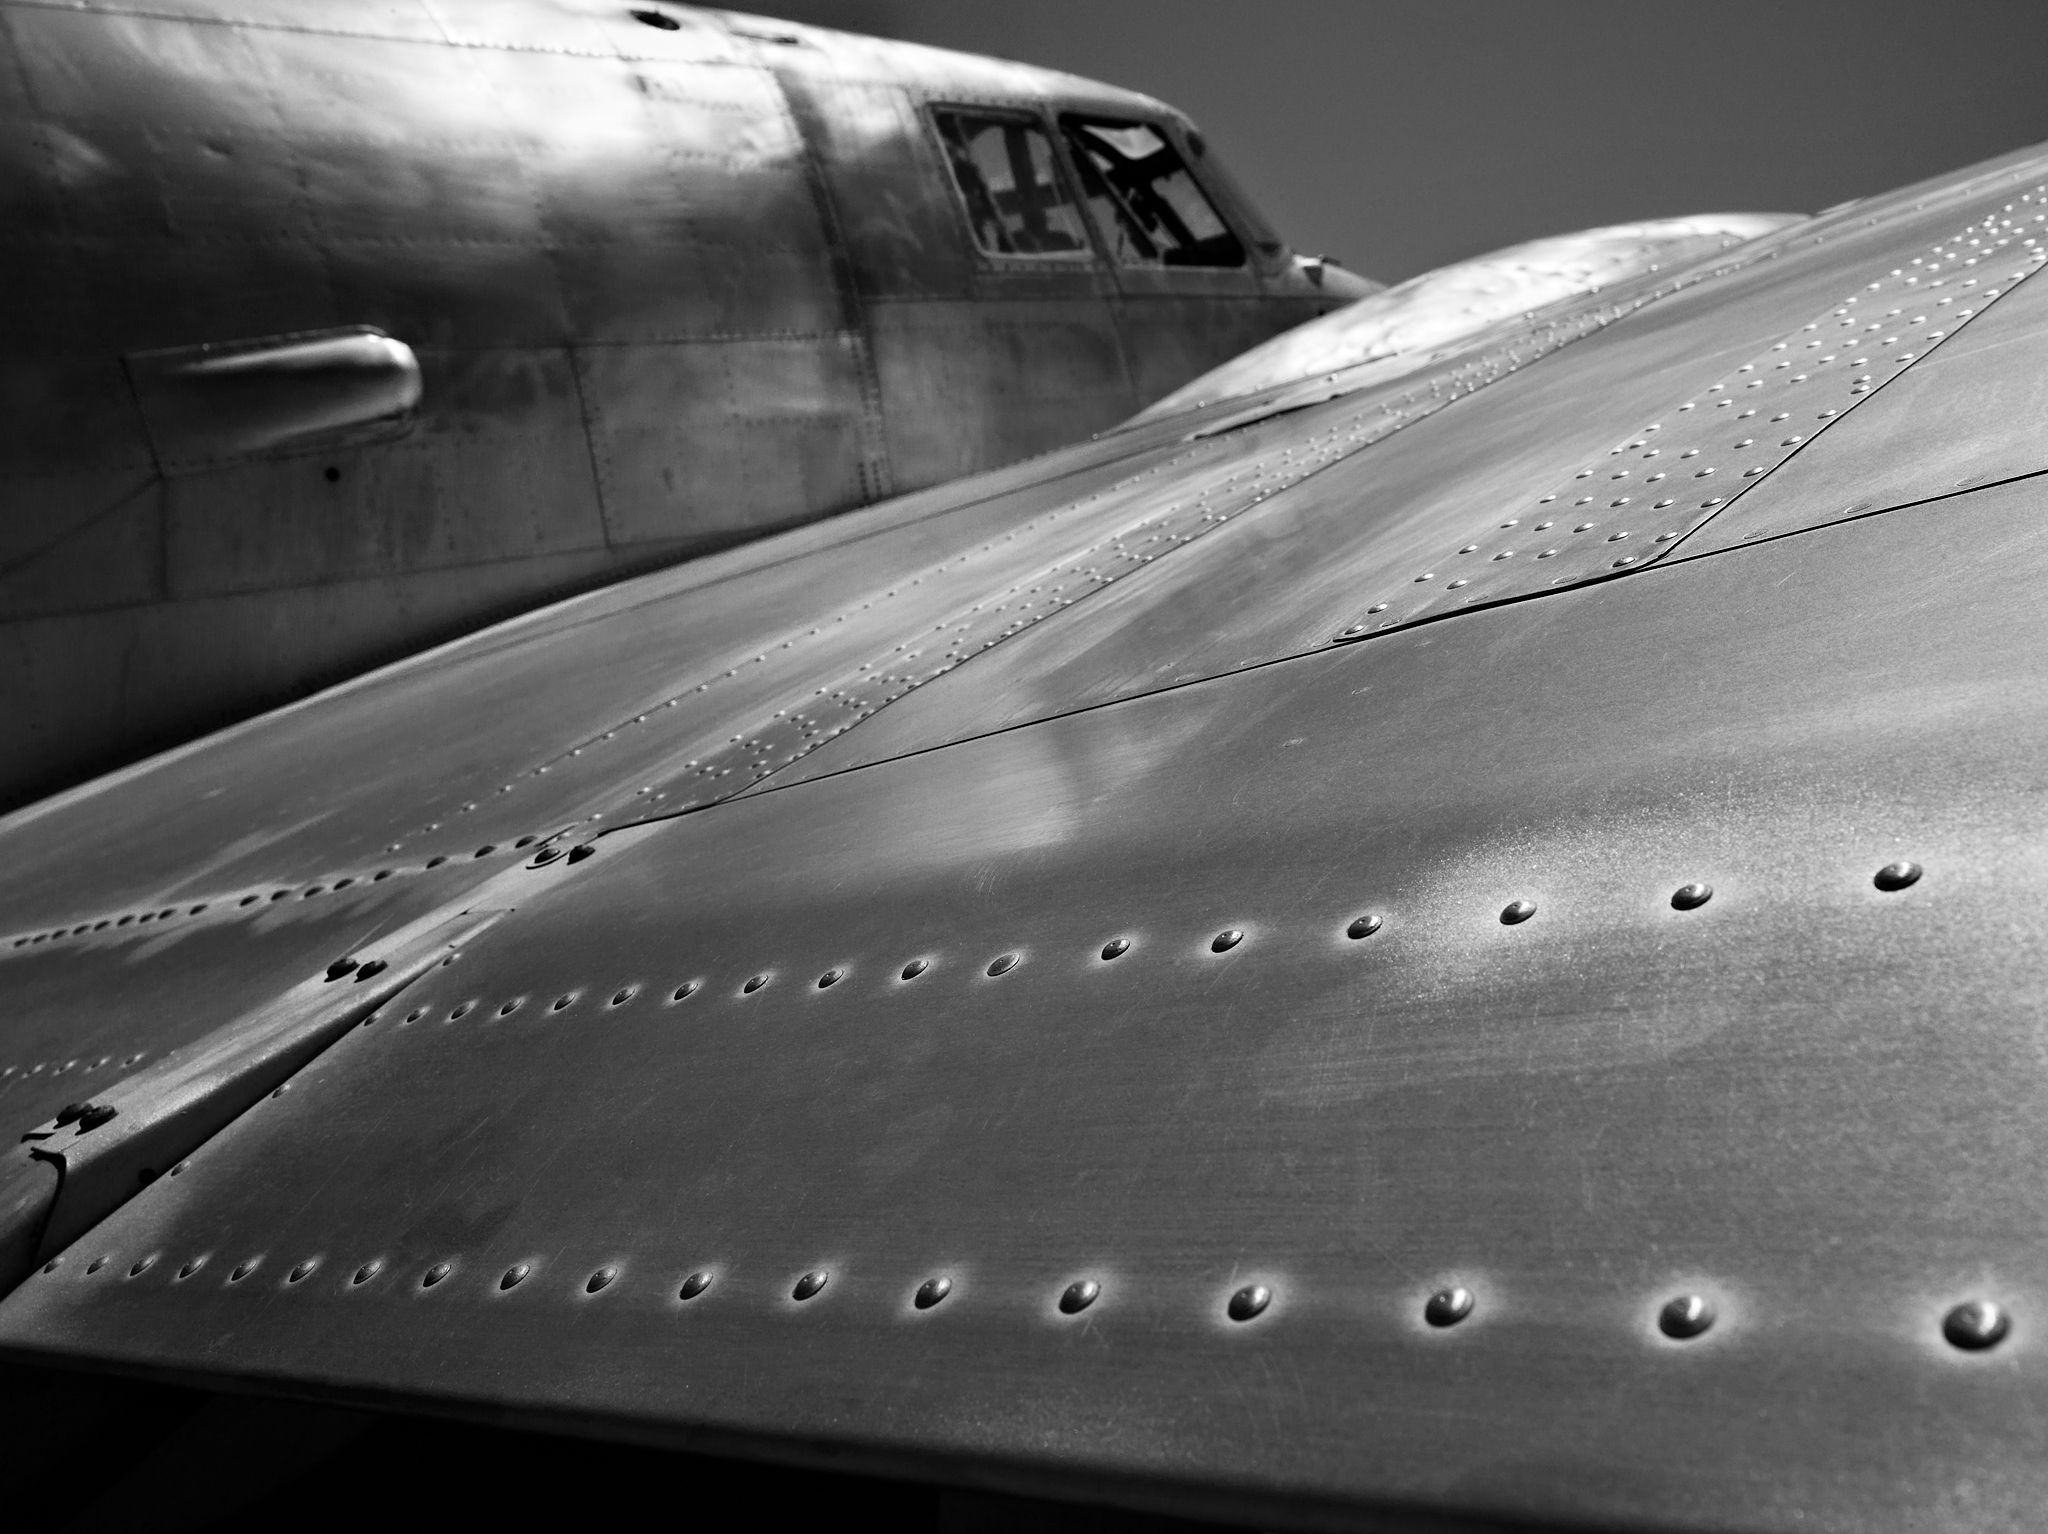rivet: (1934, 1287, 2013, 1366), (1652, 1283, 1724, 1349), (1412, 1273, 1478, 1337), (1218, 1271, 1273, 1329), (1864, 852, 1929, 901), (1049, 1268, 1105, 1321), (912, 1270, 956, 1313), (1668, 881, 1716, 914), (791, 1268, 831, 1307), (678, 1270, 715, 1304), (583, 1263, 620, 1296), (1345, 912, 1386, 941), (1495, 899, 1537, 925), (985, 951, 1022, 980), (500, 1262, 532, 1292), (421, 1262, 453, 1291), (1210, 930, 1246, 956), (1101, 938, 1133, 964), (288, 1258, 317, 1284), (353, 1260, 382, 1286), (899, 959, 931, 981), (177, 1255, 206, 1279), (129, 1254, 156, 1278), (232, 1258, 259, 1283), (819, 968, 846, 991), (743, 973, 770, 996), (611, 985, 638, 1007), (85, 1254, 111, 1276), (500, 994, 524, 1017), (450, 1001, 475, 1022), (672, 981, 699, 1001), (553, 991, 577, 1012), (404, 1004, 429, 1025), (535, 848, 561, 865), (44, 1255, 66, 1275), (171, 1160, 193, 1180), (1611, 553, 1635, 570), (1652, 530, 1681, 545), (1457, 540, 1479, 558), (1848, 383, 1872, 400), (1494, 548, 1515, 566), (1573, 520, 1595, 537), (474, 844, 496, 860), (1698, 496, 1723, 511), (1606, 530, 1631, 545), (1444, 578, 1468, 593), (1365, 601, 1389, 616), (1342, 624, 1366, 638), (272, 1083, 292, 1101), (1532, 517, 1553, 533), (425, 856, 446, 872), (305, 885, 325, 901), (1536, 548, 1558, 562), (516, 835, 538, 849), (1740, 466, 1764, 479), (363, 1010, 382, 1026), (1610, 496, 1631, 511), (334, 878, 354, 893), (1769, 413, 1792, 425), (1779, 435, 1801, 448), (1413, 572, 1436, 585), (374, 867, 392, 883), (1499, 517, 1518, 532), (442, 952, 461, 967), (1734, 438, 1755, 451), (1653, 498, 1674, 511), (271, 889, 292, 902), (2008, 271, 2025, 285), (1895, 351, 1913, 366), (58, 1059, 76, 1073), (89, 1059, 106, 1073), (118, 914, 135, 928), (242, 893, 259, 907), (190, 902, 208, 917), (1694, 467, 1716, 479), (1909, 314, 1929, 327), (1926, 330, 1945, 343), (1848, 356, 1868, 369), (1677, 403, 1697, 416), (122, 1055, 142, 1068), (1955, 309, 1975, 321), (1851, 375, 1872, 387), (1816, 409, 1837, 421), (1681, 450, 1702, 461), (1647, 472, 1668, 483), (1926, 261, 1942, 276), (1984, 288, 2001, 301), (1864, 322, 1882, 335), (1789, 374, 1806, 387), (1885, 309, 1905, 321), (1629, 440, 1648, 451), (1611, 471, 1631, 482), (1574, 471, 1594, 482), (76, 923, 90, 938), (2030, 251, 2046, 264), (1882, 335, 1898, 348), (1842, 338, 1858, 351), (27, 1063, 44, 1076), (462, 802, 479, 815), (34, 931, 47, 947), (140, 910, 156, 923), (1735, 411, 1756, 421), (1903, 277, 1921, 288), (1706, 383, 1724, 395), (1642, 450, 1660, 461), (1963, 258, 1977, 271), (1842, 317, 1856, 330), (1574, 496, 1594, 506), (3, 1065, 18, 1078), (53, 930, 68, 943), (802, 728, 819, 740), (2009, 227, 2025, 238), (2021, 238, 2037, 250), (1937, 296, 1953, 308), (1930, 280, 1946, 292), (1818, 354, 1834, 366), (1776, 361, 1792, 372), (1737, 366, 1753, 377), (744, 738, 761, 749), (387, 843, 403, 854), (587, 812, 603, 823), (15, 936, 31, 947), (95, 920, 111, 931), (160, 909, 176, 920), (1747, 380, 1764, 390), (1716, 400, 1734, 409), (756, 770, 773, 780), (885, 694, 899, 706), (852, 699, 867, 711), (809, 740, 823, 751), (1943, 251, 1958, 263), (1866, 284, 1880, 295), (1834, 308, 1848, 319), (1803, 324, 1818, 335), (1772, 343, 1787, 354), (425, 822, 440, 833), (683, 759, 698, 770), (635, 786, 649, 798), (2030, 214, 2046, 224), (1806, 340, 1822, 350), (1644, 425, 1660, 435), (799, 720, 819, 728), (790, 714, 806, 723), (1987, 227, 2000, 238), (1909, 258, 1922, 269), (633, 714, 646, 725), (859, 662, 872, 674), (1961, 280, 1979, 288), (1539, 496, 1557, 504), (752, 761, 770, 769), (1060, 599, 1075, 609), (907, 682, 922, 691), (1993, 238, 2008, 248), (1979, 250, 1993, 259), (1888, 269, 1903, 279), (1610, 448, 1624, 458), (830, 690, 844, 699), (699, 765, 714, 775), (807, 627, 822, 636), (533, 767, 548, 777), (498, 785, 512, 794), (728, 732, 743, 741), (715, 770, 732, 778), (956, 654, 968, 664), (981, 641, 994, 651), (946, 651, 959, 661), (951, 638, 964, 648), (791, 751, 804, 761), (2001, 205, 2014, 214), (1930, 247, 1943, 256), (1950, 235, 1963, 245), (2000, 221, 2013, 230), (1967, 238, 1980, 248), (1843, 296, 1856, 306), (843, 698, 856, 707), (653, 793, 665, 802), (725, 669, 738, 678), (814, 686, 827, 696), (773, 711, 786, 720), (1010, 622, 1025, 630), (859, 711, 873, 719), (836, 727, 851, 735), (2029, 248, 2046, 255), (1020, 603, 1031, 612), (996, 606, 1007, 616), (2037, 197, 2048, 206), (1964, 226, 1975, 235), (603, 732, 614, 741), (1001, 632, 1014, 640), (881, 677, 894, 685), (761, 744, 773, 752), (781, 641, 794, 649), (665, 699, 678, 707), (569, 749, 582, 757), (972, 604, 985, 612), (935, 624, 947, 632), (1130, 553, 1139, 562), (1104, 577, 1113, 587), (2037, 185, 2046, 195), (981, 543, 991, 553), (938, 566, 947, 575), (1252, 496, 1263, 504), (1117, 553, 1128, 561), (1142, 556, 1154, 564), (1052, 587, 1063, 595), (1049, 596, 1060, 604), (1031, 616, 1043, 624), (1031, 587, 1043, 595), (909, 653, 920, 661), (959, 625, 970, 633), (1980, 219, 1992, 227), (1985, 214, 1996, 222), (894, 645, 906, 653), (835, 616, 848, 622), (1168, 504, 1178, 512), (1159, 520, 1168, 529), (1262, 488, 1271, 496), (1217, 516, 1226, 524), (1181, 537, 1191, 545), (1091, 575, 1101, 583), (1086, 567, 1096, 575), (2021, 195, 2030, 203), (1009, 587, 1018, 595), (912, 578, 922, 587), (862, 603, 872, 611), (756, 654, 765, 662), (698, 685, 707, 693), (1200, 516, 1212, 522), (901, 677, 912, 683), (1139, 520, 1147, 529), (1250, 483, 1258, 491), (1168, 533, 1176, 541), (1052, 566, 1060, 574), (1196, 501, 1205, 508), (1149, 537, 1159, 543), (1115, 545, 1125, 551), (959, 556, 968, 562), (888, 591, 898, 598), (1279, 485, 1287, 491), (1204, 508, 1212, 514), (1229, 475, 1238, 482), (1226, 487, 1234, 493), (1089, 546, 1097, 553), (1110, 537, 1118, 543), (1072, 567, 1080, 574), (1200, 491, 1207, 496)
screw: (79, 1104, 119, 1131), (56, 1101, 93, 1125), (325, 959, 359, 980), (358, 959, 388, 980), (569, 843, 596, 864)
